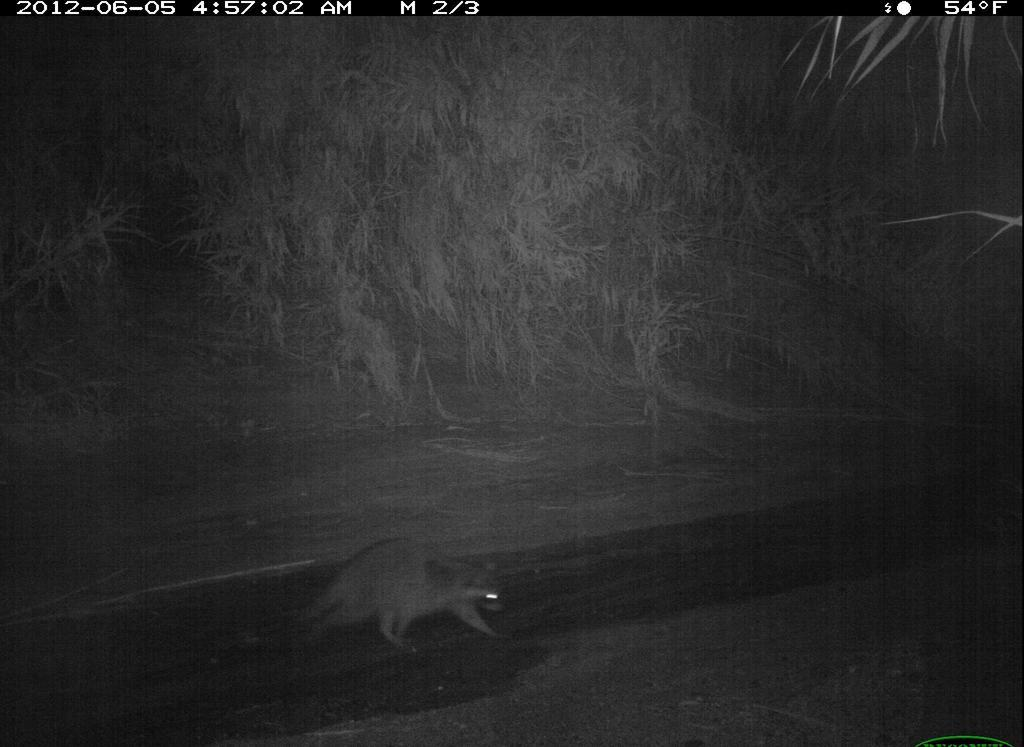raccoon: (258, 523, 527, 669)
